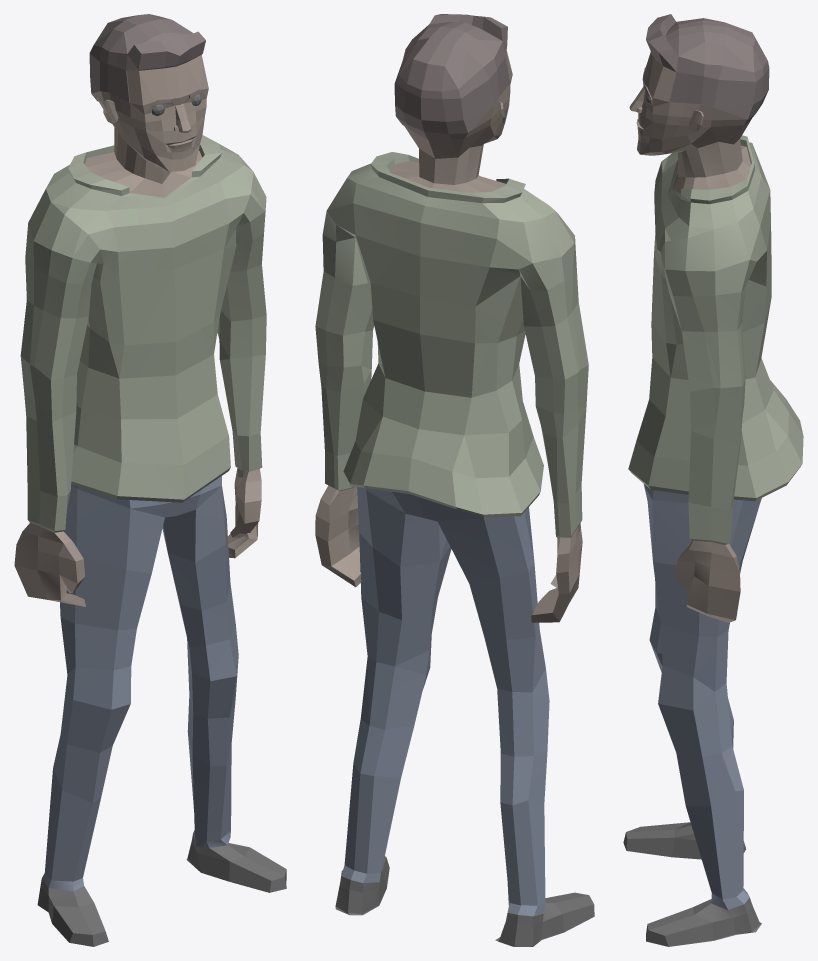
Rendered from player-idle.glb.
The picture shows the model from 3 angles, left to right: view 1: azimuth 30°, elevation 25°; view 2: azimuth 150°, elevation 25°; view 3: azimuth 270°, elevation 25°; orthographic projection. The views are drawn at different scales.
Visible parts, largest first — view 1: BaseHuman_baked; view 2: BaseHuman_baked; view 3: BaseHuman_baked.
Part boxes in pixels (x1,y1,x2,y2): BaseHuman_baked: (14,14,286,946); BaseHuman_baked: (315,14,594,946); BaseHuman_baked: (623,14,803,946).
Size of the model in its own units: 1.41 by 4.81 by 0.9079.
